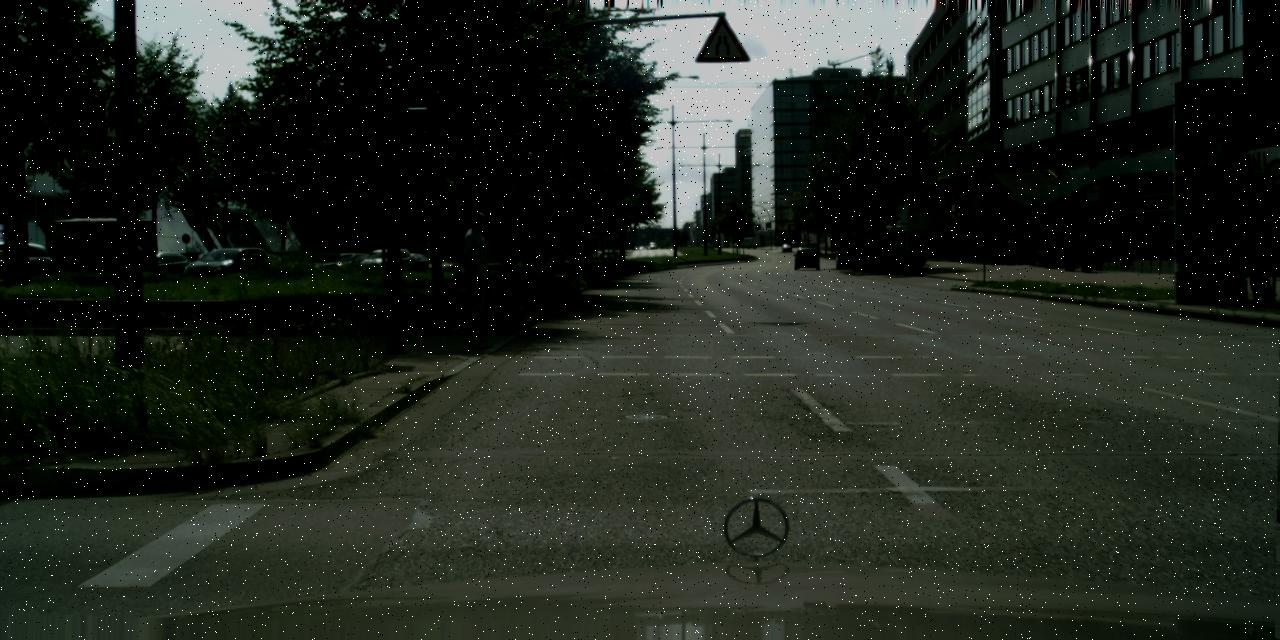ped: (449, 211, 505, 348), (1006, 236, 1017, 263)
